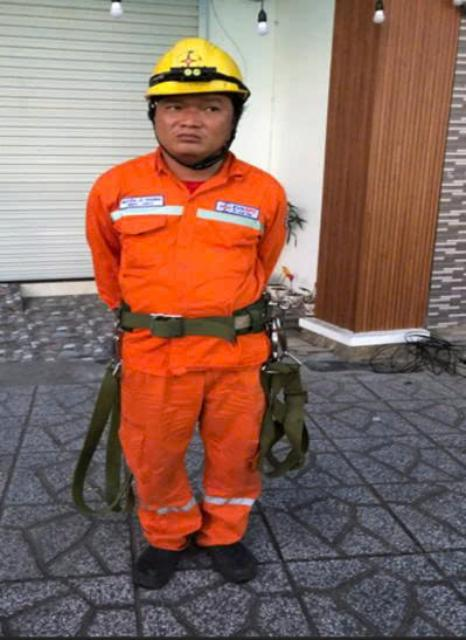harness: (100, 284, 300, 352)
helmet: (137, 28, 255, 109)
shoes: (192, 525, 271, 593), (113, 528, 193, 595)
